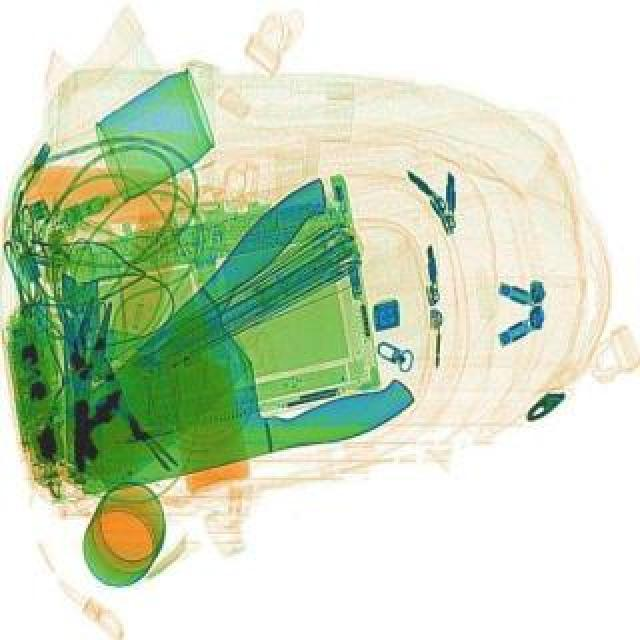gun: (42, 170, 386, 494), (52, 318, 420, 506)
